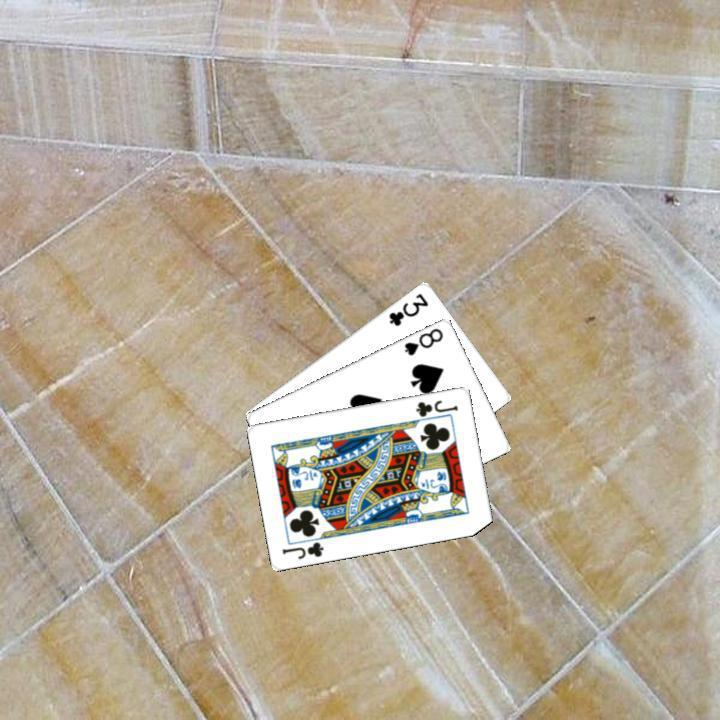3: (384, 288, 431, 328)
8: (400, 323, 445, 357)
J: (412, 395, 460, 419), (278, 537, 326, 561)
